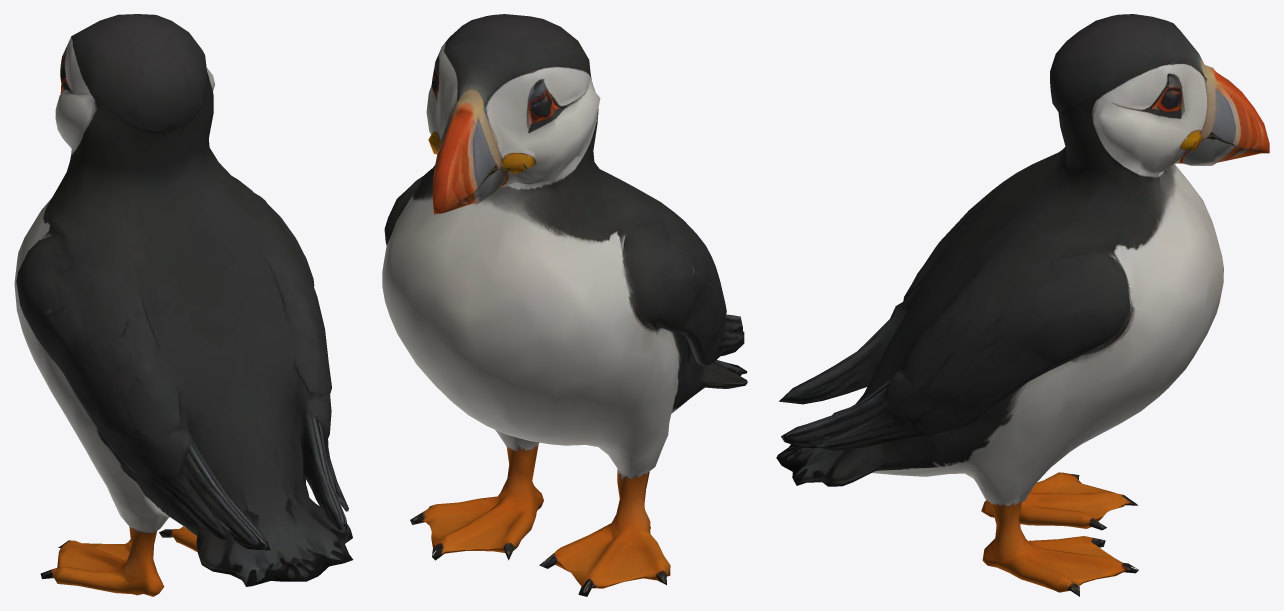
The model's file is puffin-standing.glb.
3 views of the same model, side by side, from view 1: azimuth 30°, elevation 25°; view 2: azimuth 150°, elevation 25°; view 3: azimuth 270°, elevation 25° (orthographic). The views are drawn at different scales.
Parts seen in each view (by area): view 1: Puffin_standing; view 2: Puffin_standing; view 3: Puffin_standing.
Part boxes in pixels (left/top/right/bottom): Puffin_standing: left=14, top=14, right=353, bottom=596; Puffin_standing: left=382, top=14, right=747, bottom=596; Puffin_standing: left=776, top=14, right=1269, bottom=596.
Size of the model in its own units: 0.3702 by 0.7 by 0.6034.
1 material, 1 textured.
